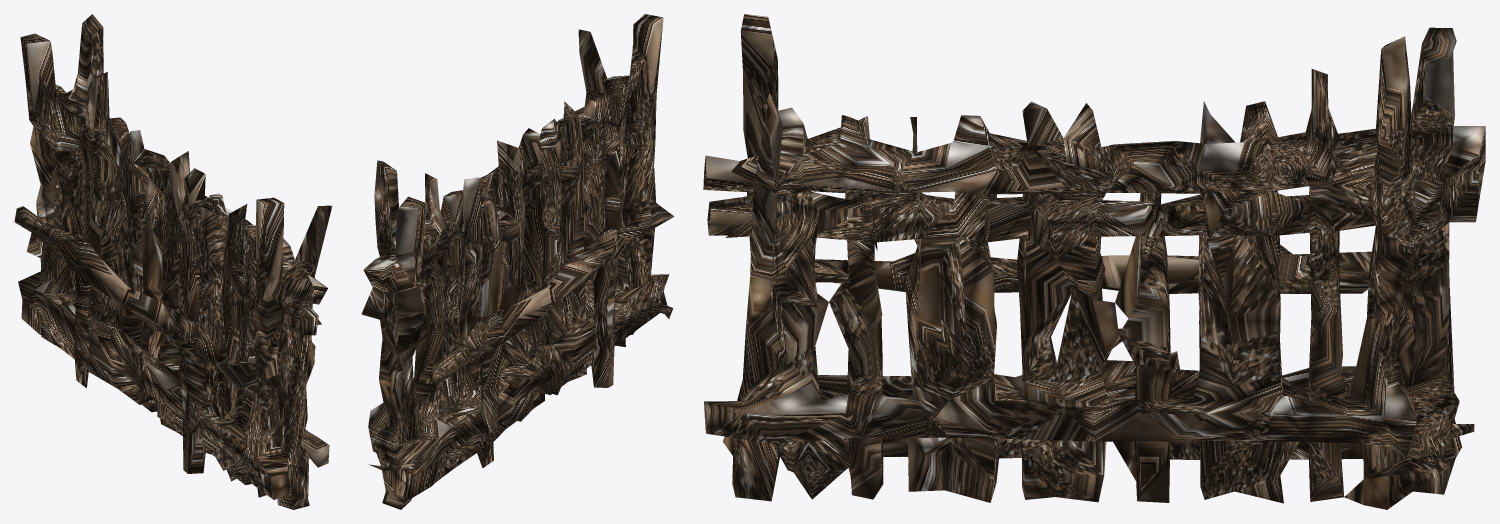
The model's file is palisade-low.glb.
The picture shows the model from 3 angles, left to right: view 1: azimuth 30°, elevation 25°; view 2: azimuth 150°, elevation 25°; view 3: azimuth 270°, elevation 25°; orthographic projection. The views are drawn at different scales.
Size of the model in its own units: 0.2129 by 0.6678 by 0.9954.
1 material, 1 textured.
